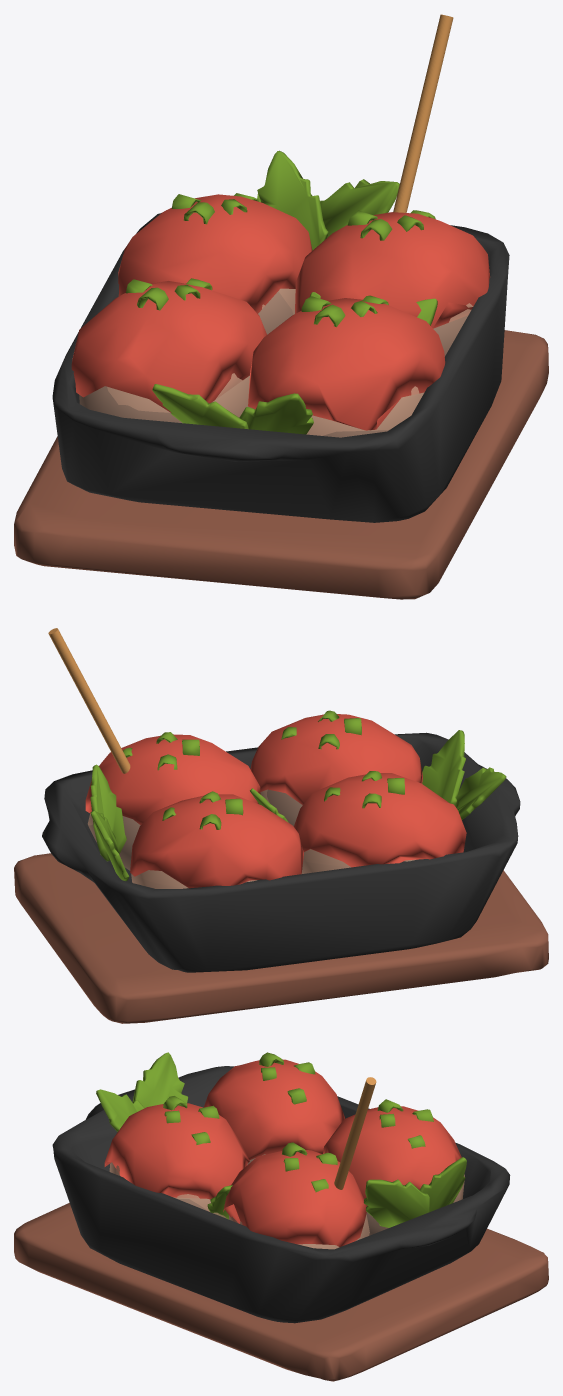
File: meatball.glb
3 renders of one model, top to bottom at view 1: azimuth 30°, elevation 25°; view 2: azimuth 150°, elevation 25°; view 3: azimuth 270°, elevation 25°, orthographic. The views are drawn at different scales.
Visible parts, largest first — view 1: takoyaki, pan, plate, Plane.004, wood; view 2: takoyaki, pan, plate, Plane.004, wood; view 3: takoyaki, pan, plate, Plane.004, wood.
Part boxes in pixels (box(x1,y1,x2,y2)): takoyaki: box(71, 193, 489, 437); pan: box(52, 213, 509, 522); plate: box(14, 330, 548, 599); Plane.004: box(152, 150, 437, 434); wood: box(393, 14, 453, 212); takoyaki: box(85, 710, 466, 888); pan: box(42, 732, 520, 972); plate: box(14, 853, 548, 1023); Plane.004: box(90, 730, 506, 881); wood: box(48, 628, 130, 773); takoyaki: box(104, 1052, 464, 1249); pan: box(52, 1066, 510, 1323); plate: box(14, 1203, 548, 1381); Plane.004: box(96, 1052, 466, 1227); wood: box(334, 1077, 376, 1189).
Bounding box in the file's own units: 3.06 × 1.78 × 3.09.
